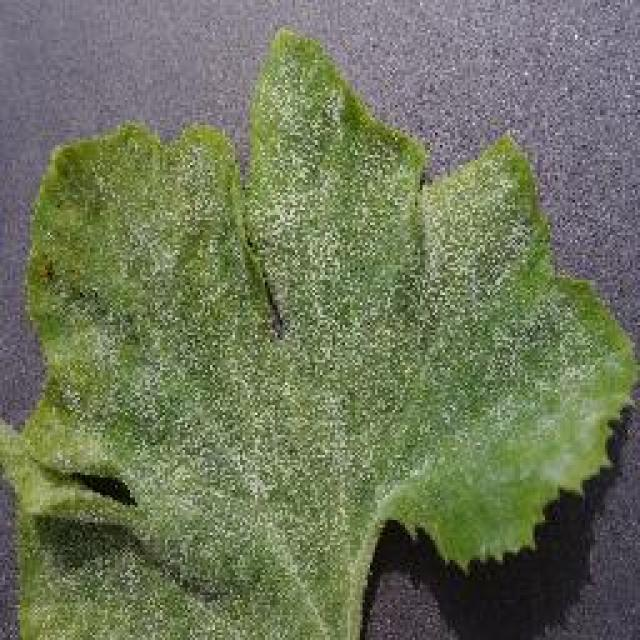Squ_Powdery_mildew: (78, 145, 518, 606)
